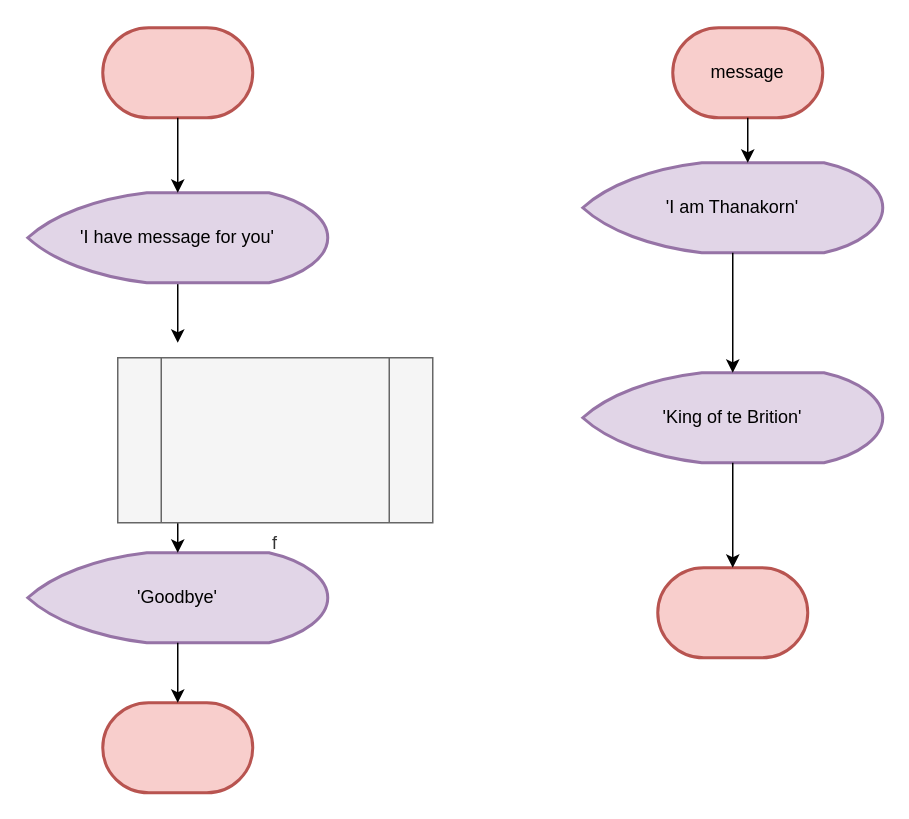
Image size: 909x819. Some labels were removed from this diagram. The shapes that lost their labels are listed below. From the top down, each one's centre as x and y in pixels, then its label:
At [177,72]: "start".
At [732,612]: "Return".
At [177,747]: "stop".
